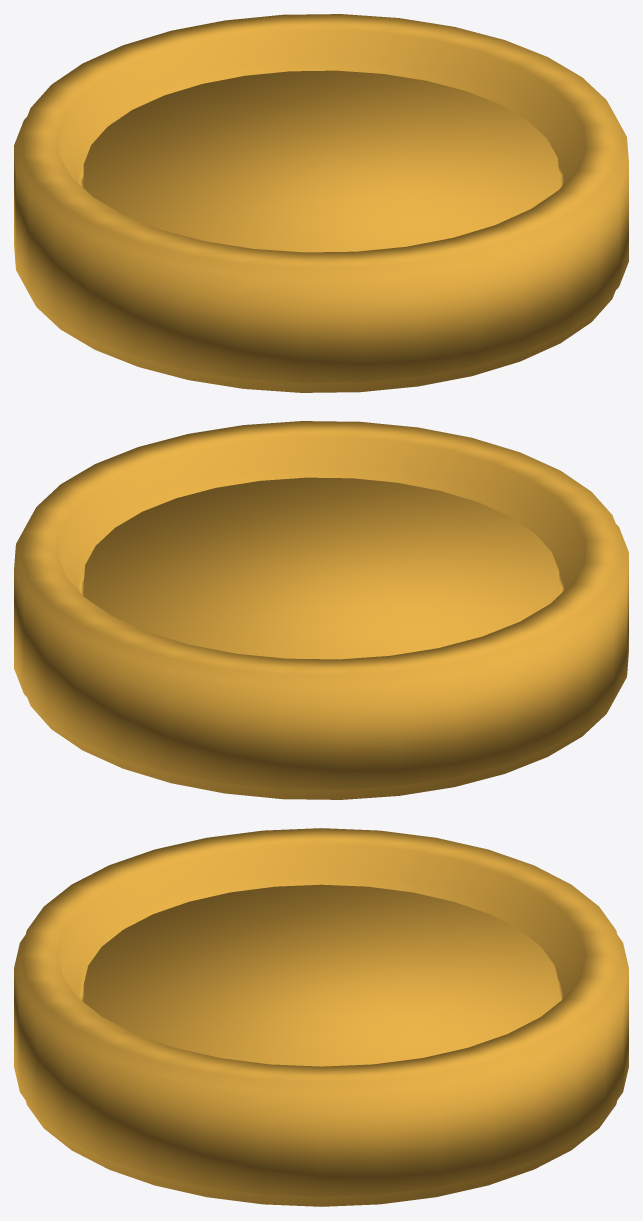
File: credit.glb
3 renders of one model, top to bottom at view 1: azimuth 30°, elevation 25°; view 2: azimuth 150°, elevation 25°; view 3: azimuth 270°, elevation 25°, orthographic.
Visible parts, largest first — view 1: coin.005; view 2: coin.005; view 3: coin.005.
Part boxes in pixels (x1,y1,x2,y2): coin.005: (14,14,628,392); coin.005: (14,421,628,799); coin.005: (14,828,628,1206).
Size of the model in its own units: 0.0201 by 0.0045 by 0.0201.
